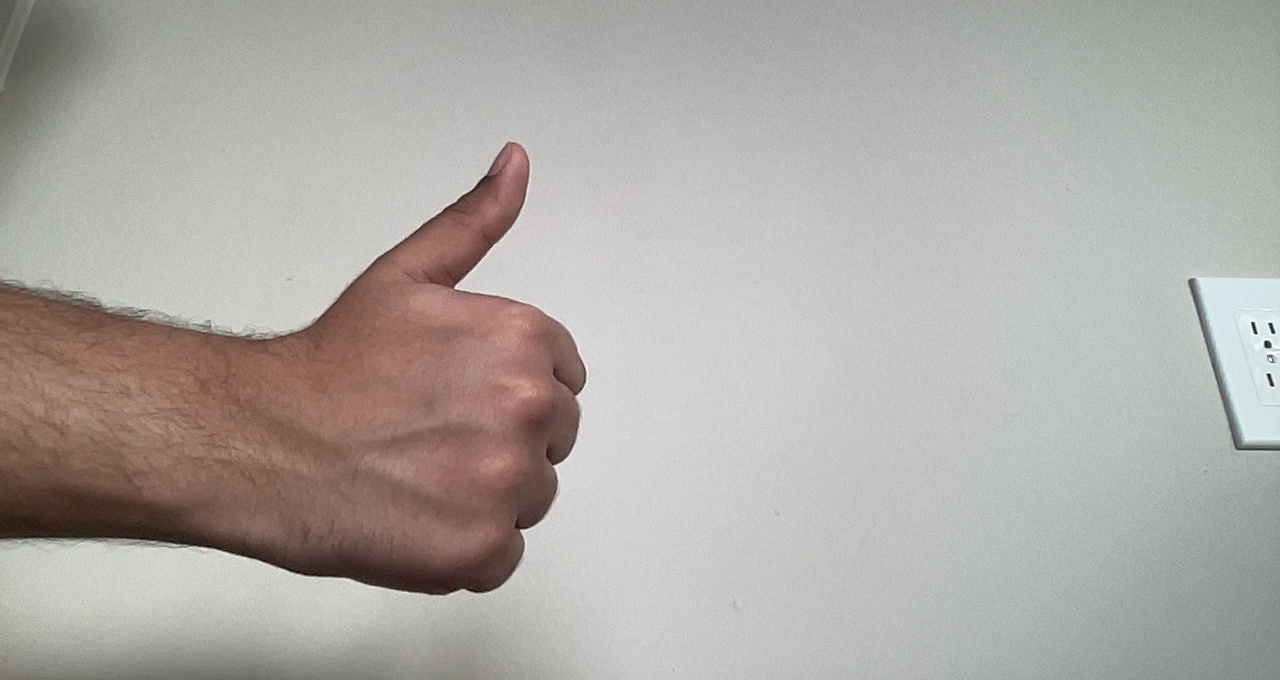thumbsup: (330, 135, 601, 612)
